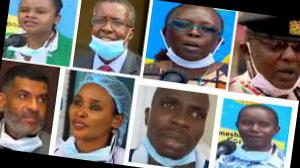mask_weared_incorrect: (147, 92, 210, 166), (244, 36, 300, 90), (165, 16, 222, 66), (89, 11, 129, 52)
without_mask: (65, 91, 115, 142), (9, 85, 51, 136), (237, 113, 278, 147), (16, 1, 55, 33)
